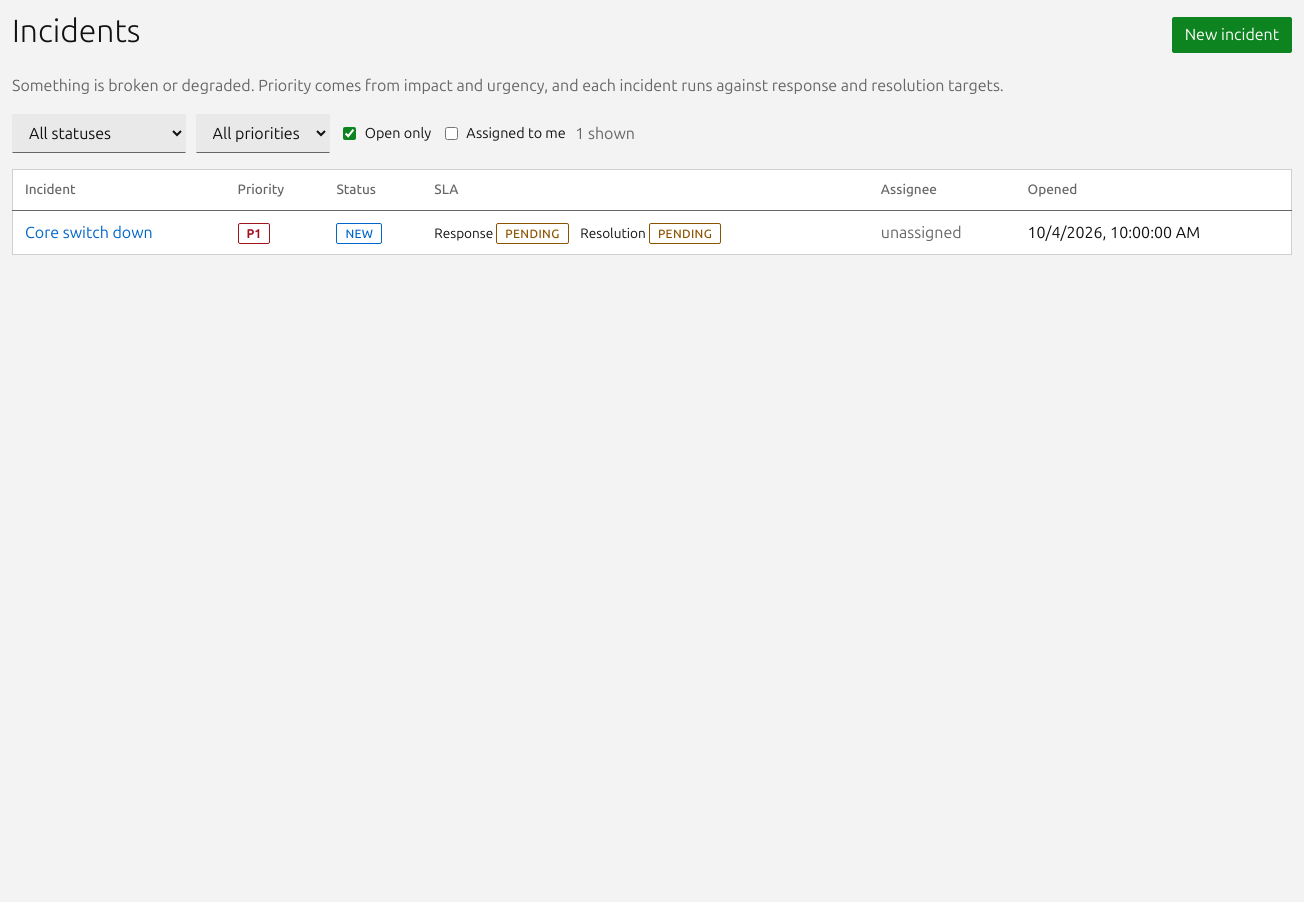
working an incident › shows the facts, the links, the SLA and the history, and walks NEW -> ACKNOWLEDGED -> IN_PROGRESS
The width and height of the screenshot is (1304, 902).
Step 1. Click the button "Core switch down" → (89, 233), box [25, 221, 153, 245]
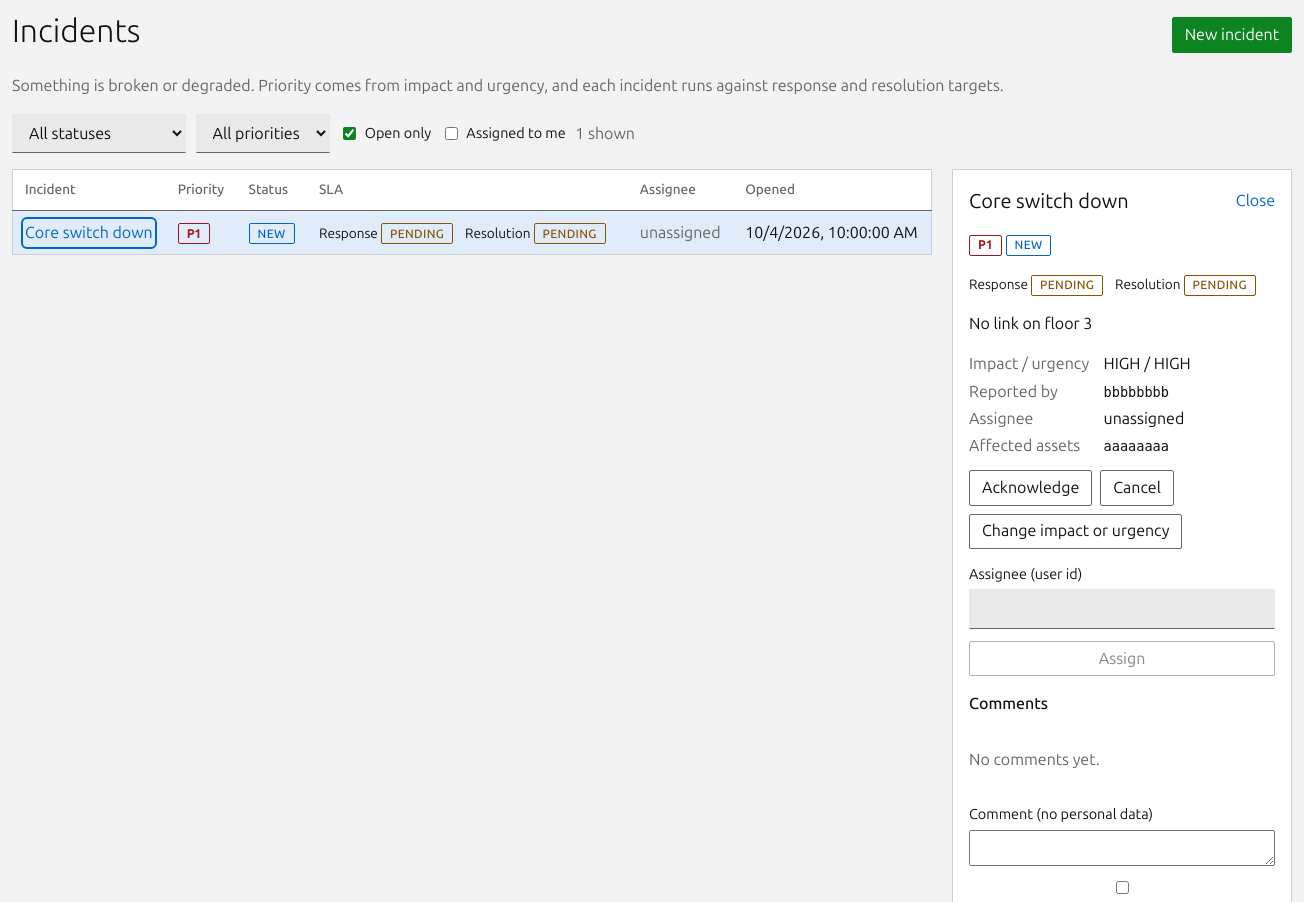
Expected: the text "No link on floor 3" is shown, [969, 314, 1092, 333]
Expected: the text "HIGH / HIGH" is shown, [1104, 354, 1191, 373]
Expected: the text "aaaaaaaa" is shown, [1104, 438, 1169, 454]
Step 2. Click the button "Acknowledge" → (1031, 488), box [969, 470, 1092, 506]
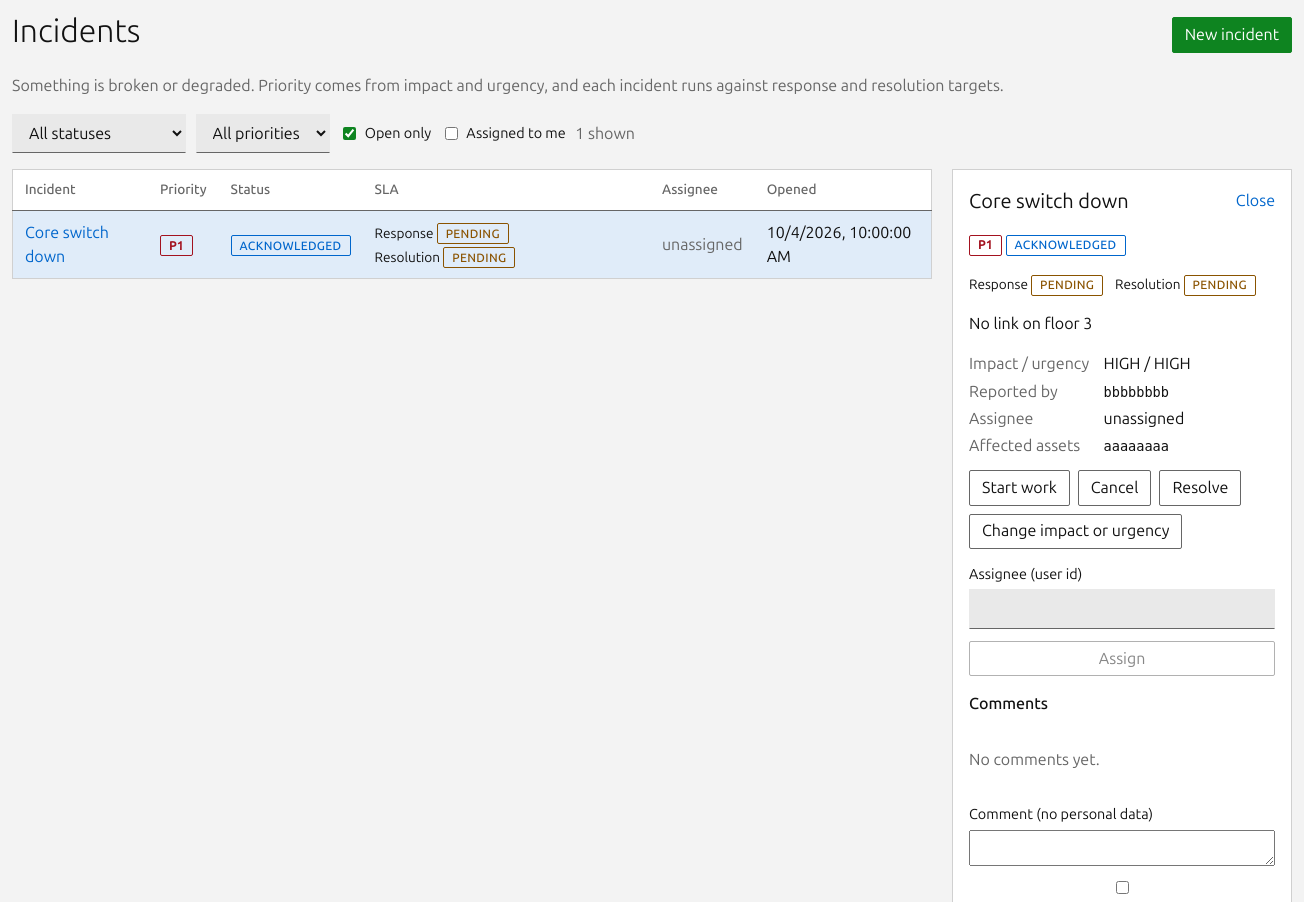
Expected: the button "Start work" is shown
Expected: the button "Resolve" is shown, [1159, 470, 1241, 506]
Step 3. Click the button "Start work" → (1019, 488), box [969, 470, 1070, 506]
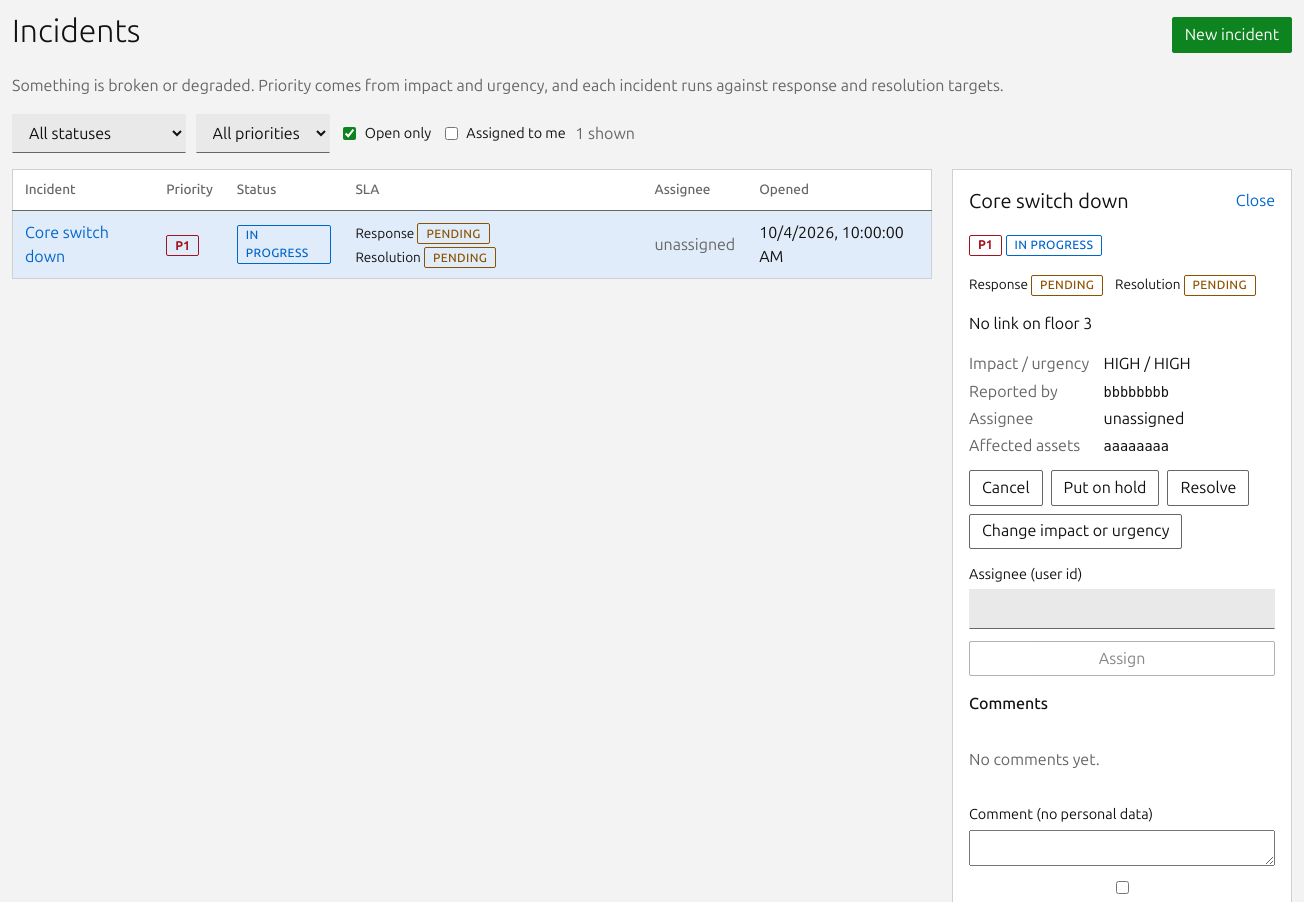
Expected: the button "Put on hold" is shown, [1051, 470, 1160, 506]
